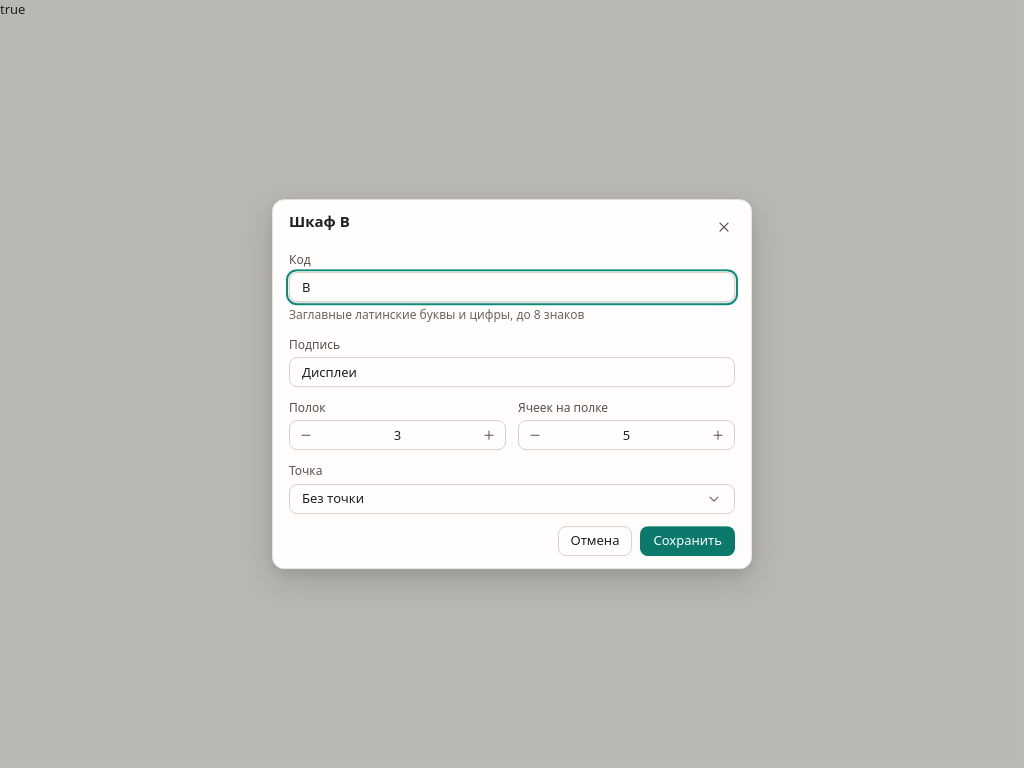
Test: RackDialog › keeps a refused field under its field
The image size is (1024, 768).
Step 1. Type "2" into the field labelled "Код" → x=512, y=287, box x1=302 y1=273 x2=722 y2=301
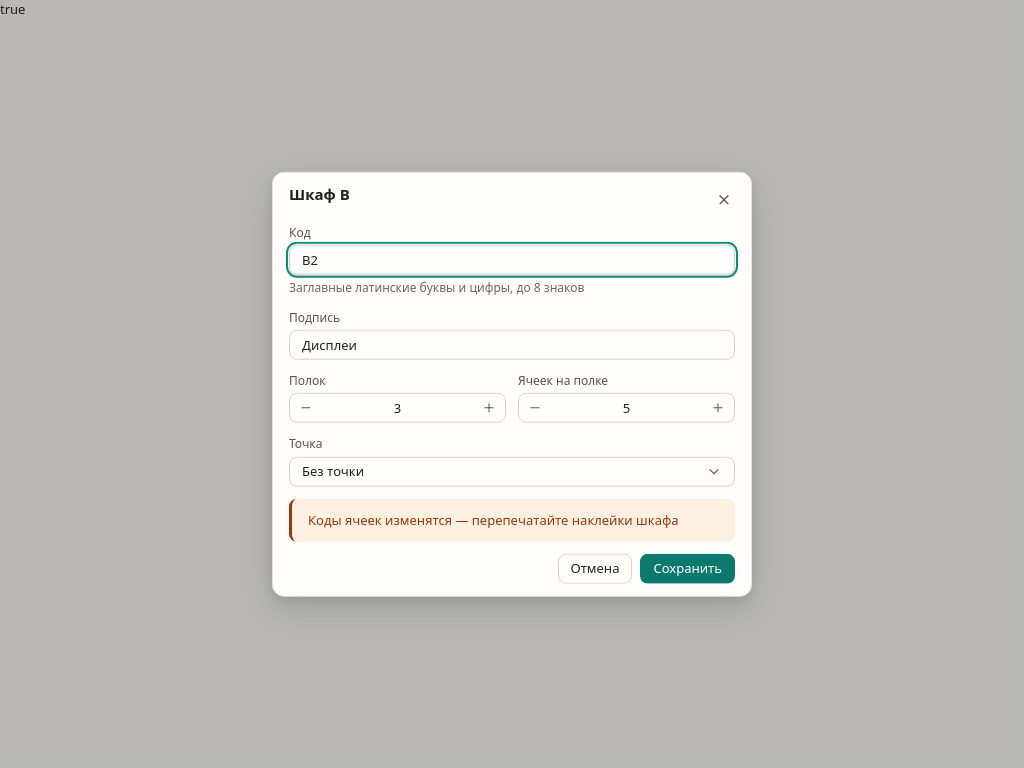
Step 2. Click the button "Сохранить" → x=688, y=568, box x1=640 y1=553 x2=735 y2=583
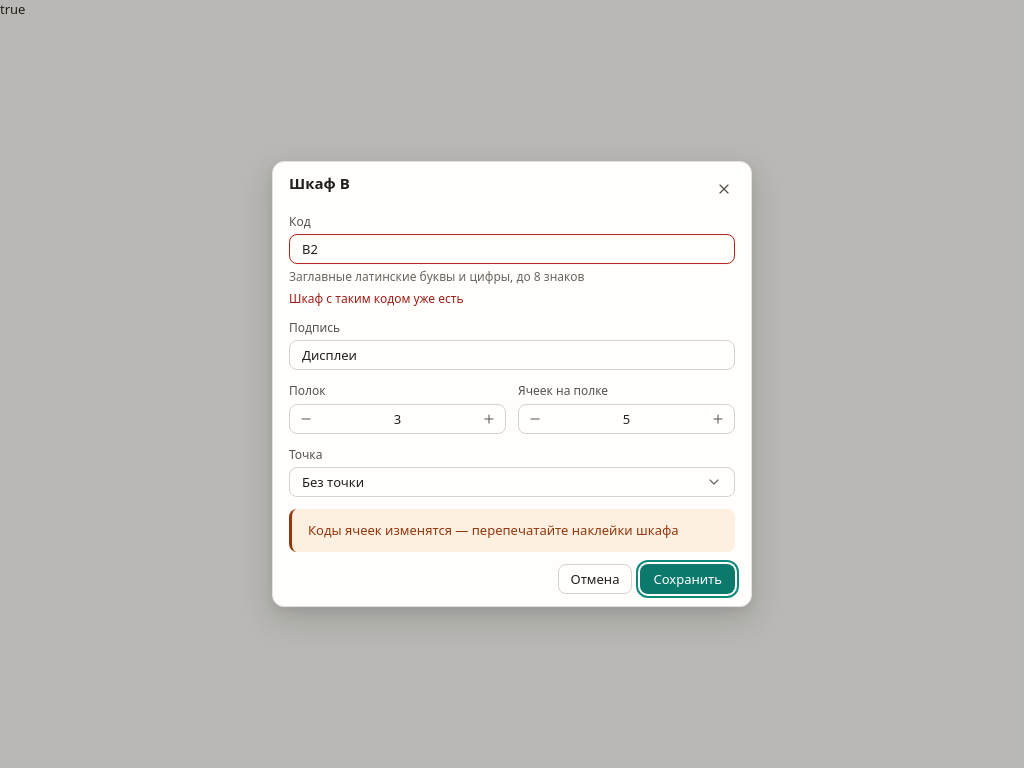
Expected: the text with test id "open" reads "true", x1=0 y1=0 x2=25 y2=18
Result: the text "Шкаф с таким кодом уже есть" is shown at x1=289 y1=290 x2=464 y2=307
